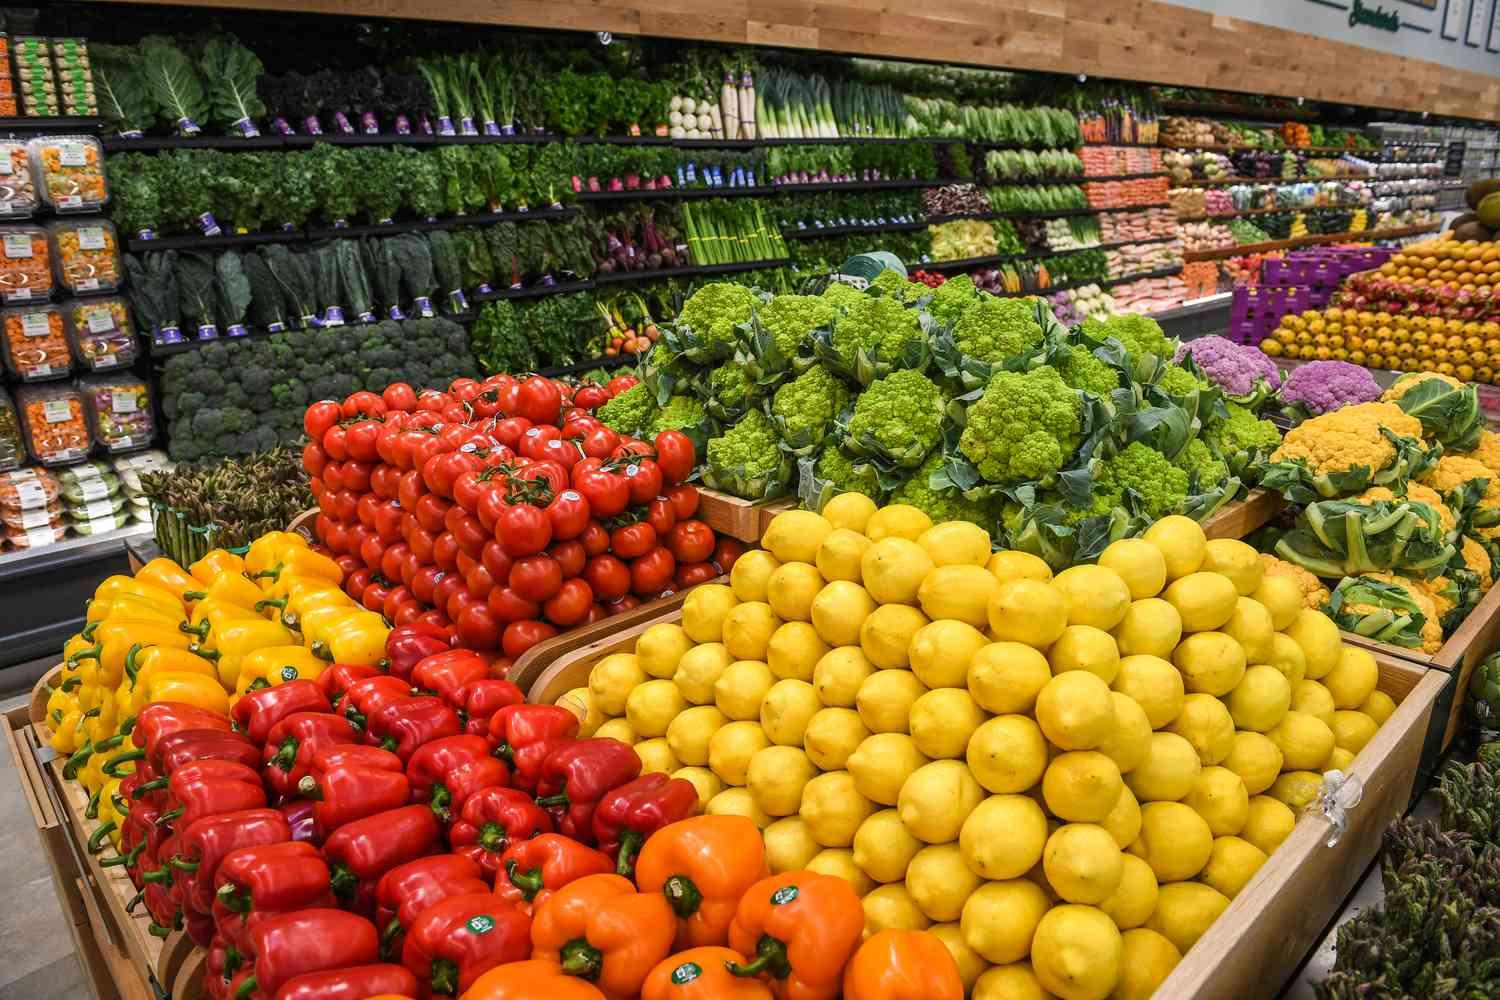lemon: (661, 497, 1388, 993)
sweet pepper: (150, 663, 686, 1000), (463, 812, 964, 1000), (44, 537, 379, 810)
tomato: (310, 376, 714, 650)
